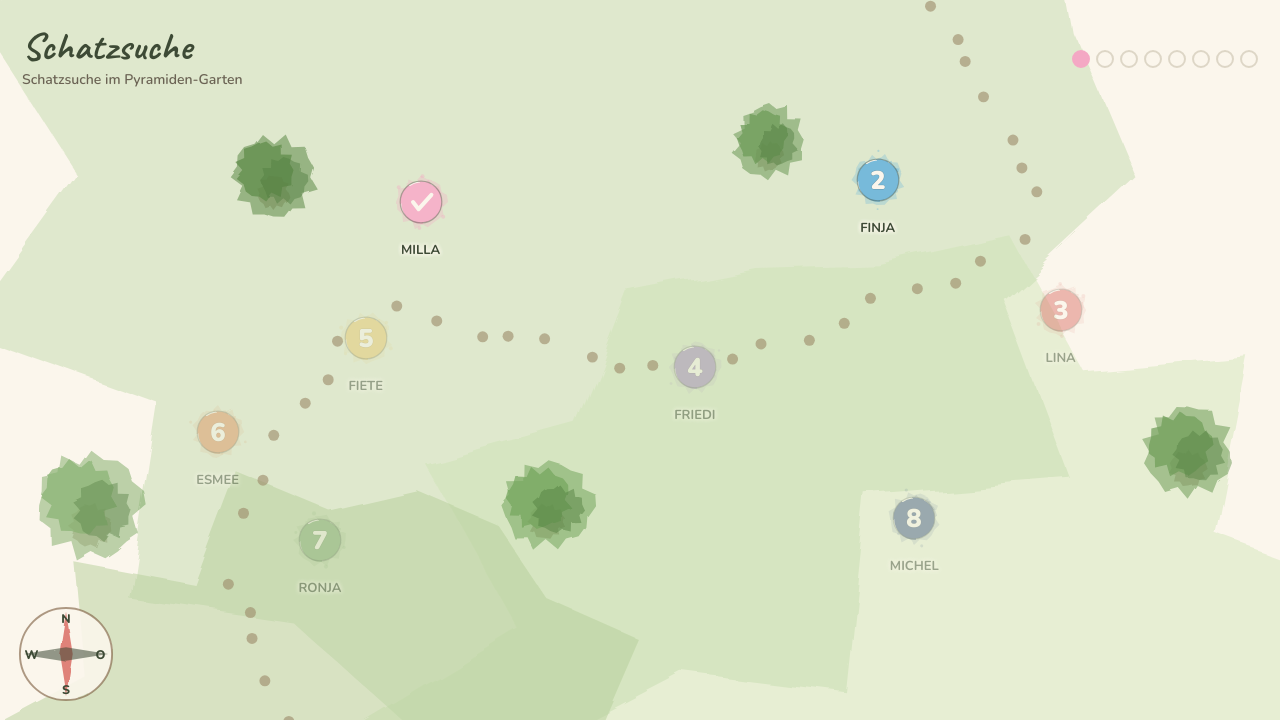
MapScreen › admin 'Schließen' closes the menu without changing state
The image size is (1280, 720).
Press the mouse on the button with test id "map-title" at [132, 58], box [22, 28, 242, 89]
Wait 1500 ms
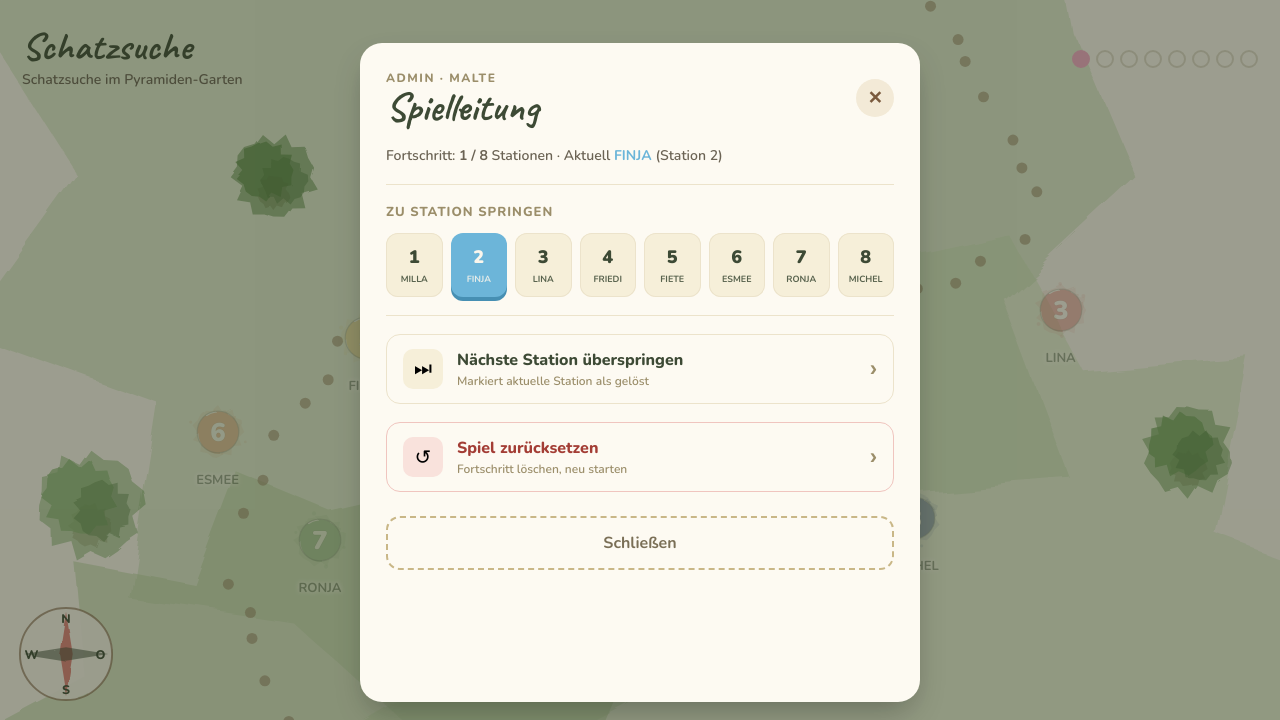
Click the button "Schließen" at [640, 543], box [386, 516, 894, 570]
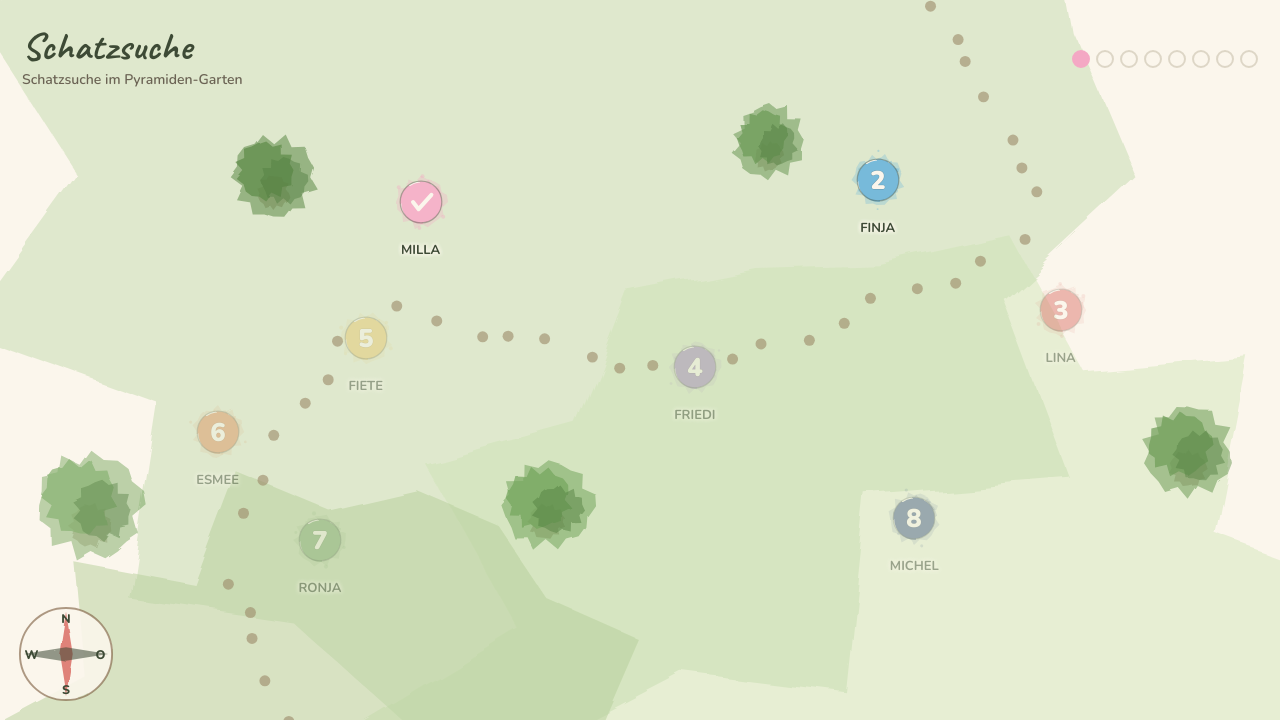
Expected: the dialog with test id "admin-menu" is gone
